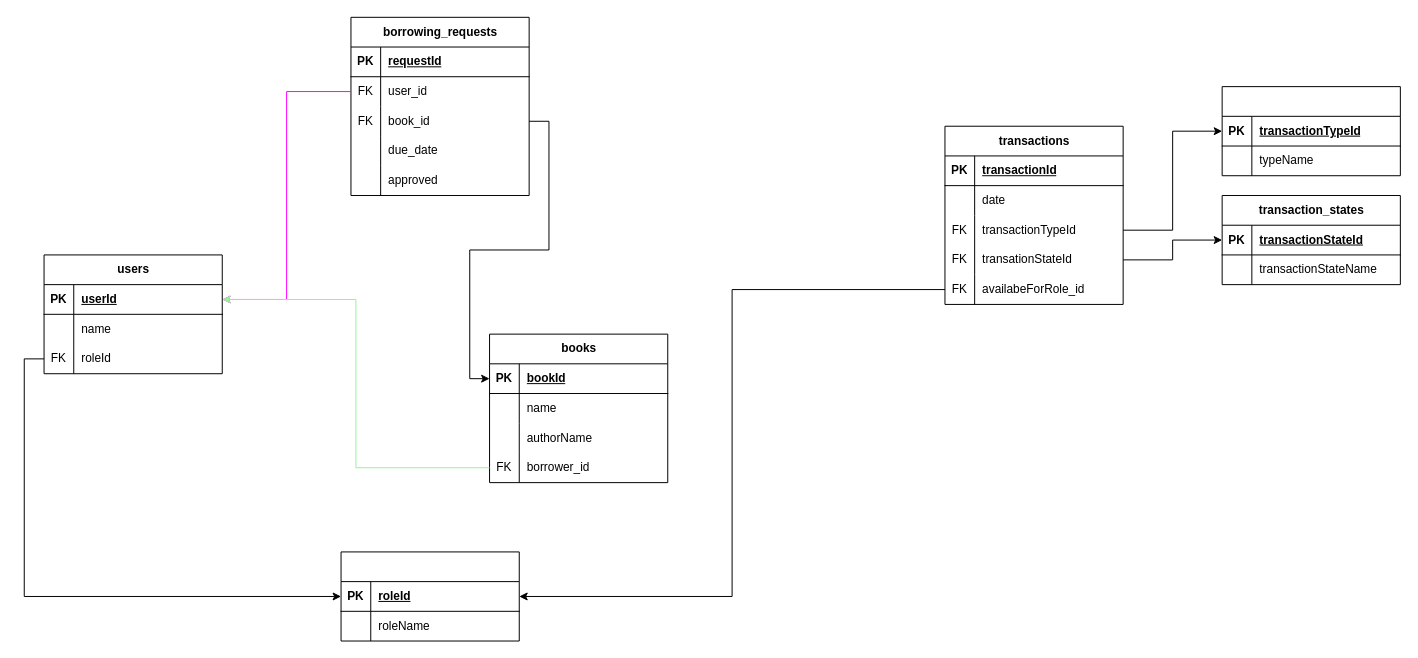
The diagram is 1418 pixels wide and 658 high, and some of its shapes have lost their labels. The shapes that lost their labels are listed below. From the top down, each one's box as (x1, y1, x2, y2) in pixels, then its label:
(1221, 86, 1400, 176): transaction_types
(340, 551, 519, 641): user_roles
